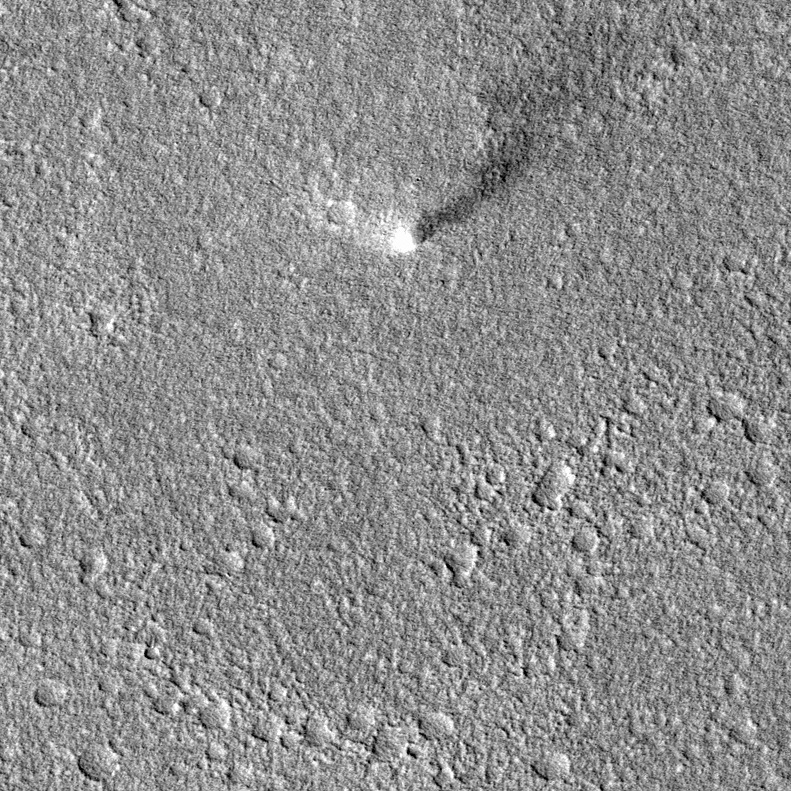dust_devil: (386, 126, 535, 257)
